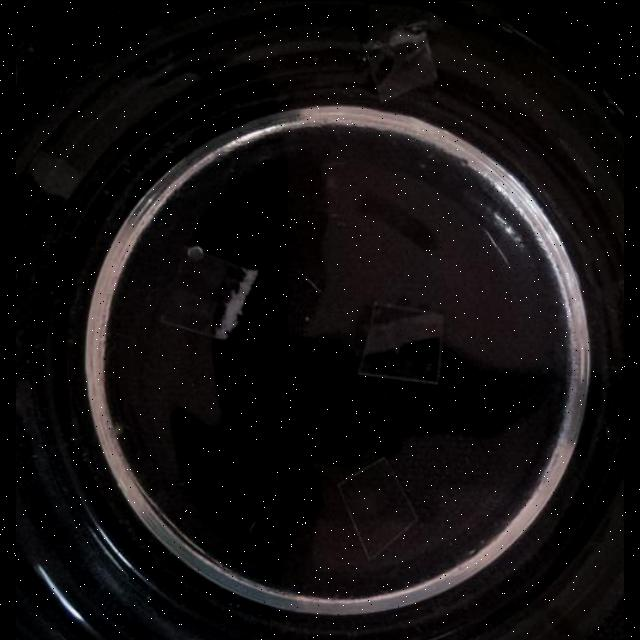Film: (336, 451, 422, 564), (158, 245, 255, 341), (358, 300, 444, 386), (365, 22, 437, 104)
